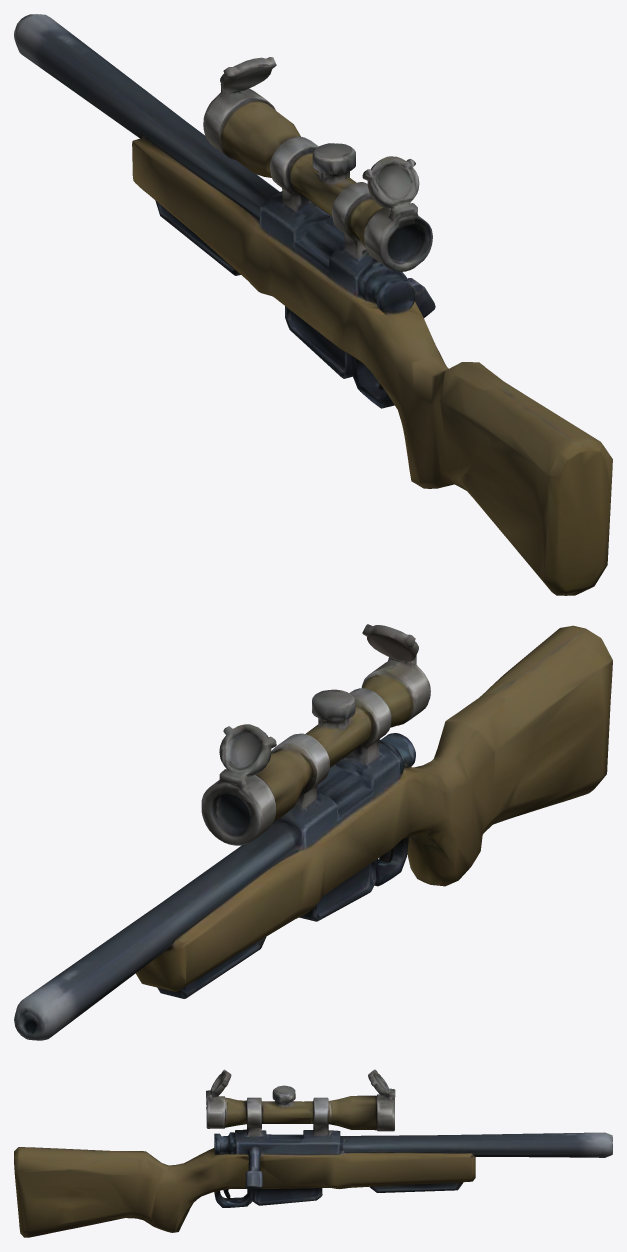
File: r_ridge.glb
3 renders of one model, top to bottom at view 1: azimuth 30°, elevation 25°; view 2: azimuth 150°, elevation 25°; view 3: azimuth 270°, elevation 25°, orthographic. The views are drawn at different scales.
Visible parts, largest first — view 1: node_0; view 2: node_0; view 3: node_0.
Boxes of the visible parts, left/top/right/bottom form: node_0: left=14, top=14, right=612, bottom=595; node_0: left=14, top=624, right=612, bottom=1040; node_0: left=14, top=1069, right=612, bottom=1237.
Bounding box in the file's own units: 0.1443 × 0.4163 × 1.39.
Materials: 1 (1 with a texture image).
